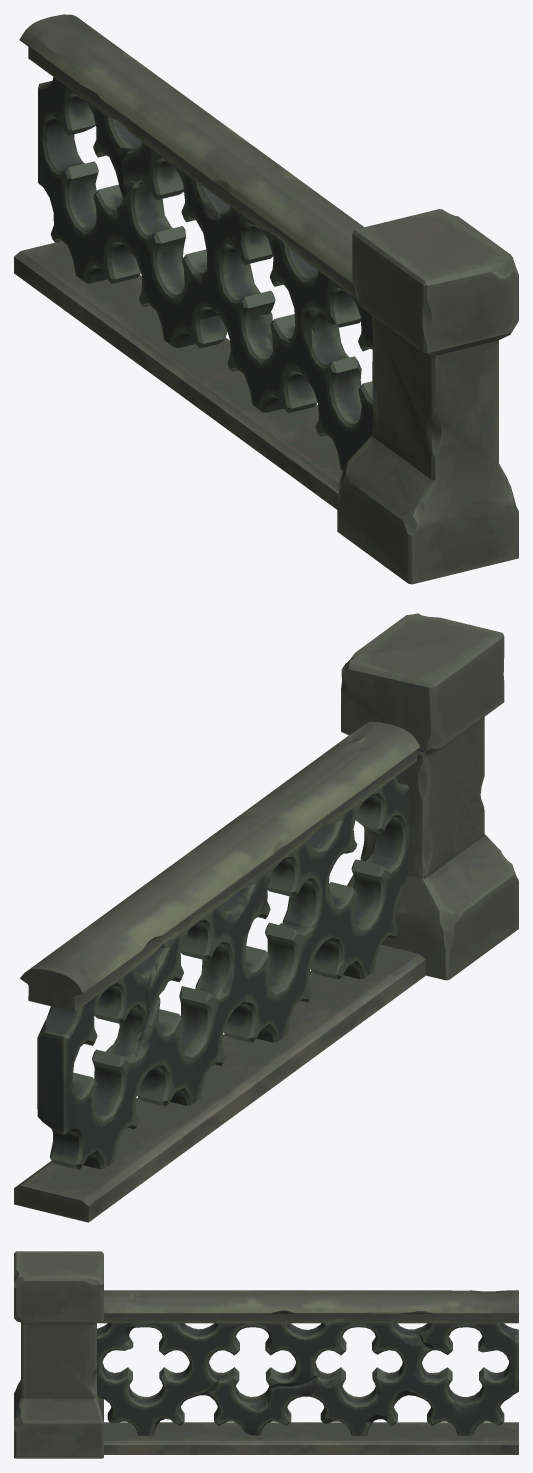
The model's file is BannisterOneColumnType1.fbx.
3 renders of one model, top to bottom at view 1: azimuth 30°, elevation 25°; view 2: azimuth 150°, elevation 25°; view 3: azimuth 270°, elevation 25°, orthographic. The views are drawn at different scales.
Visible parts, largest first — view 1: BannisterColumnShort (7), bannisterPattern1, bannisterTop, bannisterParts3; view 2: bannisterPattern1, BannisterColumnShort (7), bannisterTop, bannisterParts3; view 3: bannisterPattern1, BannisterColumnShort (7), bannisterTop, bannisterParts3.
Part boxes in pixels (x1,y1,x2,y2): BannisterColumnShort (7): (337, 209, 518, 584); bannisterPattern1: (38, 77, 373, 470); bannisterTop: (19, 14, 363, 298); bannisterParts3: (14, 241, 342, 509); bannisterPattern1: (37, 776, 409, 1169); BannisterColumnShort (7): (341, 613, 518, 980); bannisterTop: (20, 721, 419, 1011); bannisterParts3: (14, 944, 425, 1222); bannisterPattern1: (97, 1321, 518, 1435); BannisterColumnShort (7): (14, 1251, 103, 1458); bannisterTop: (97, 1290, 518, 1323); bannisterParts3: (104, 1422, 518, 1454).
Size of the model in its own units: 1.41 by 3.62 by 9.21.
